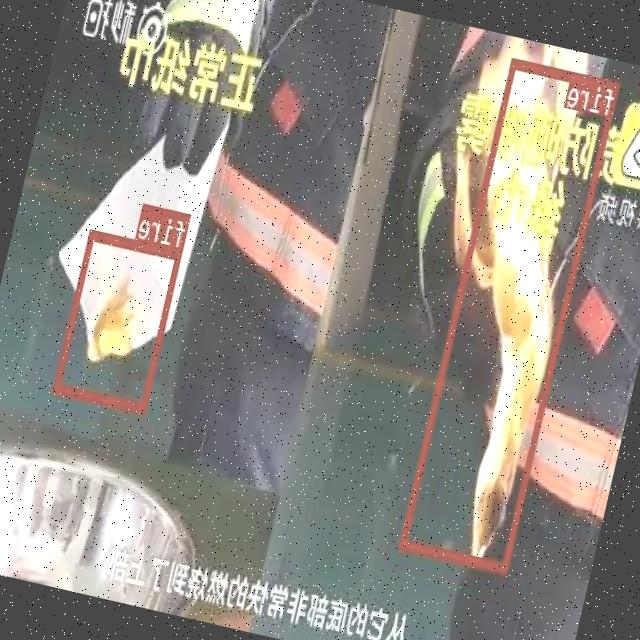fire: (399, 56, 622, 572), (54, 228, 183, 412)
